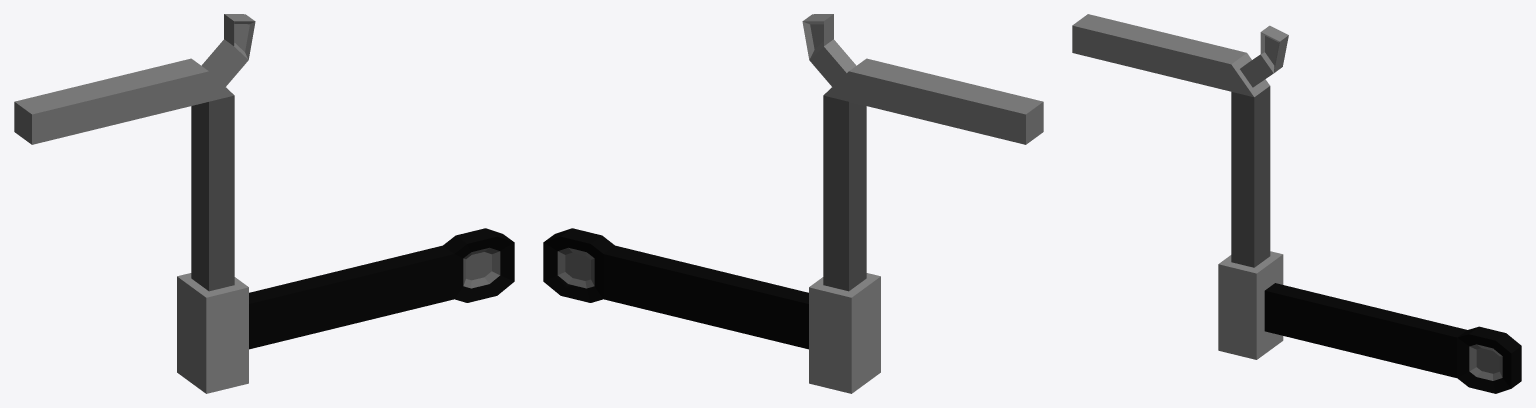
The model's file is Leaver (1).dae.
The picture shows the model from 3 angles, left to right: view 1: azimuth 30°, elevation 25°; view 2: azimuth 150°, elevation 25°; view 3: azimuth 330°, elevation 25°; orthographic projection. The views are drawn at different scales.
Visible parts, largest first — view 1: Куб.001, Куб; view 2: Куб.001, Куб; view 3: Куб.001, Куб.
Boxes of the visible parts, left/top/right/bottom form: Куб.001: left=14, top=14, right=255, bottom=393; Куб: left=249, top=228, right=514, bottom=349; Куб.001: left=802, top=14, right=1043, bottom=393; Куб: left=543, top=228, right=808, bottom=349; Куб.001: left=1072, top=14, right=1288, bottom=359; Куб: left=1264, top=283, right=1521, bottom=393.
Bounding box in the file's own units: 19.11 × 2 × 13.41.
